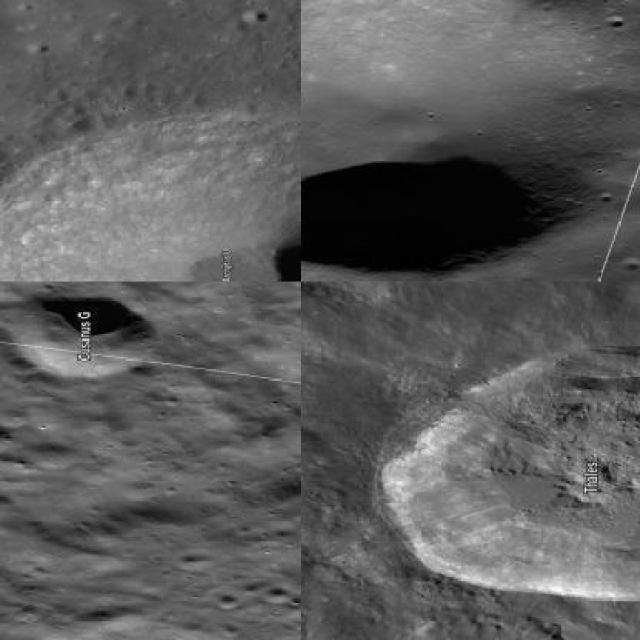crater: (300, 0, 638, 274), (380, 343, 638, 597), (0, 109, 298, 280), (9, 296, 157, 376)
